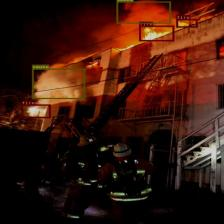fire: (139, 25, 174, 41), (21, 104, 50, 118), (176, 19, 197, 27)
smoke: (32, 68, 85, 98), (116, 1, 170, 23)
